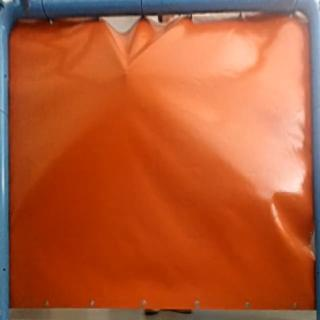Hit-hRxx: (120, 64, 135, 83)
